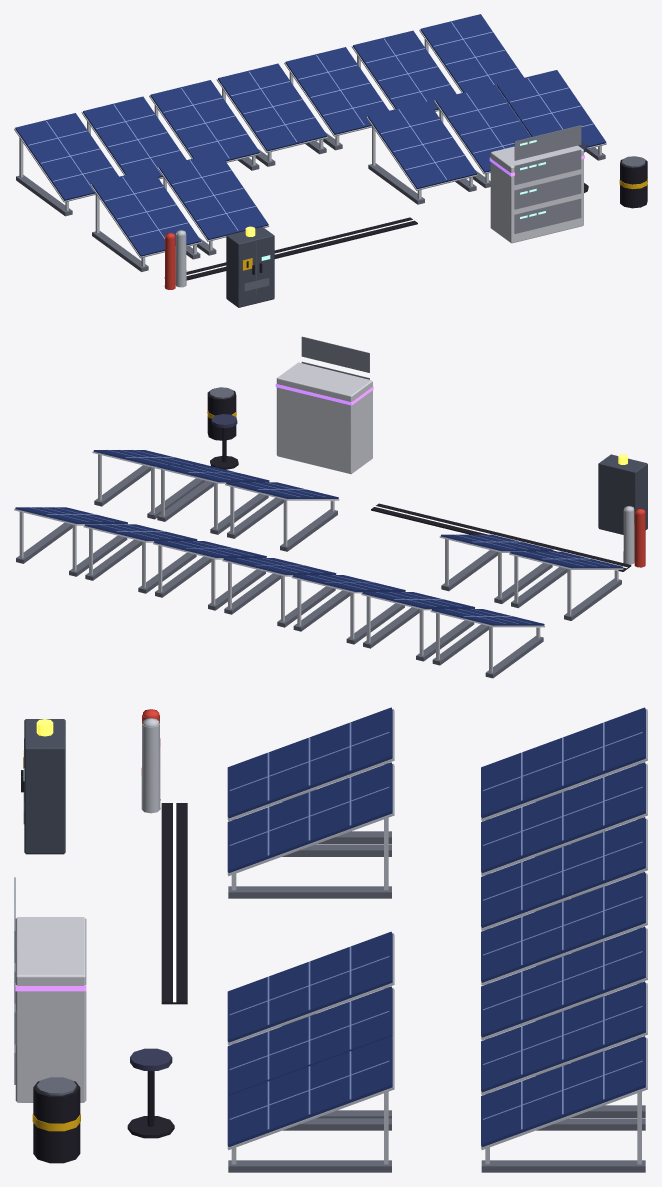
File: einrichtung_solardach.glb
The picture shows the model from 3 angles, top to bottom: view 1: azimuth 30°, elevation 25°; view 2: azimuth 150°, elevation 25°; view 3: azimuth 270°, elevation 25°; orthographic projection. The views are drawn at different scales.
Parts seen in each view (by area): view 1: einrichtung_solardach; view 2: einrichtung_solardach; view 3: einrichtung_solardach.
Part boxes in pixels (x1,y1,x2,y2): einrichtung_solardach: (14, 14, 647, 307); einrichtung_solardach: (14, 336, 647, 678); einrichtung_solardach: (14, 707, 647, 1172).
Bounding box in the file's own units: 7.6 × 1.59 × 5.38.
